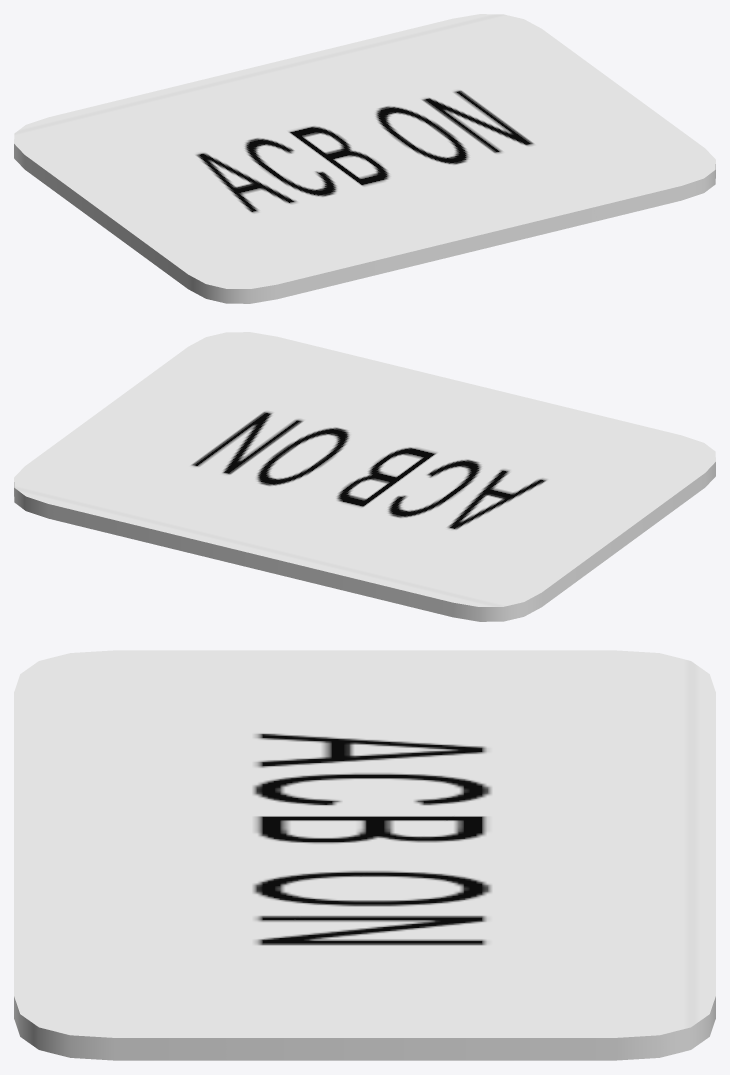
The model's file is buttonLabel_ACBon.fbx.
3 renders of one model, top to bottom at view 1: azimuth 30°, elevation 25°; view 2: azimuth 150°, elevation 25°; view 3: azimuth 270°, elevation 25°, orthographic. The views are drawn at different scales.
Parts seen in each view (by area): view 1: buttonLabel_ACBon; view 2: buttonLabel_ACBon; view 3: buttonLabel_ACBon.
Boxes of the visible parts, box(x1,y1,x2,y2) form: buttonLabel_ACBon: box(14, 14, 715, 303); buttonLabel_ACBon: box(14, 332, 715, 621); buttonLabel_ACBon: box(14, 650, 715, 1060).
Size of the model in its own units: 1.84 by 0.05 by 1.41.
1 material, 1 textured.
